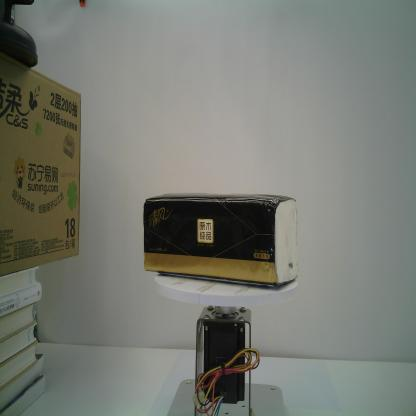Tissue: (142, 187, 298, 289)
